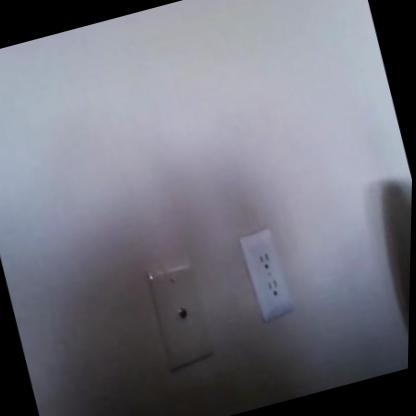OUTLET: (237, 227, 297, 321)
